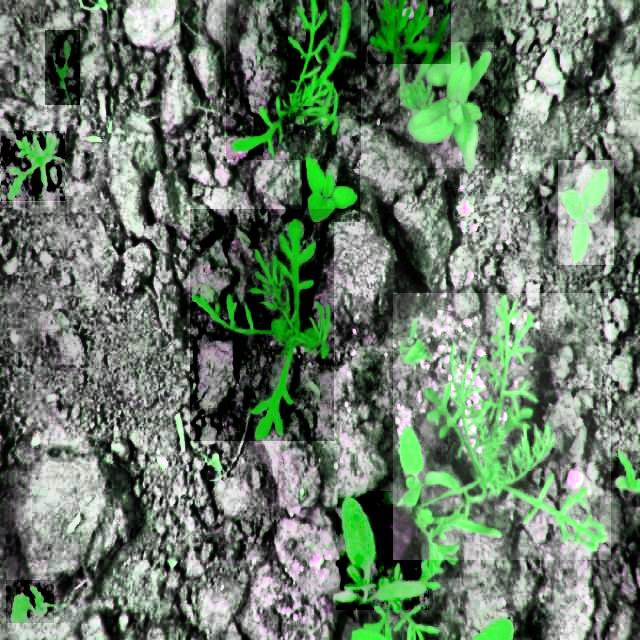Weeds: (400, 42, 494, 168), (336, 491, 429, 610), (558, 160, 614, 265), (302, 147, 360, 222)
undefined: (393, 293, 611, 560), (190, 209, 334, 441), (226, 0, 361, 160), (368, 0, 451, 64), (1, 132, 65, 204), (45, 30, 80, 105), (6, 580, 54, 623)
